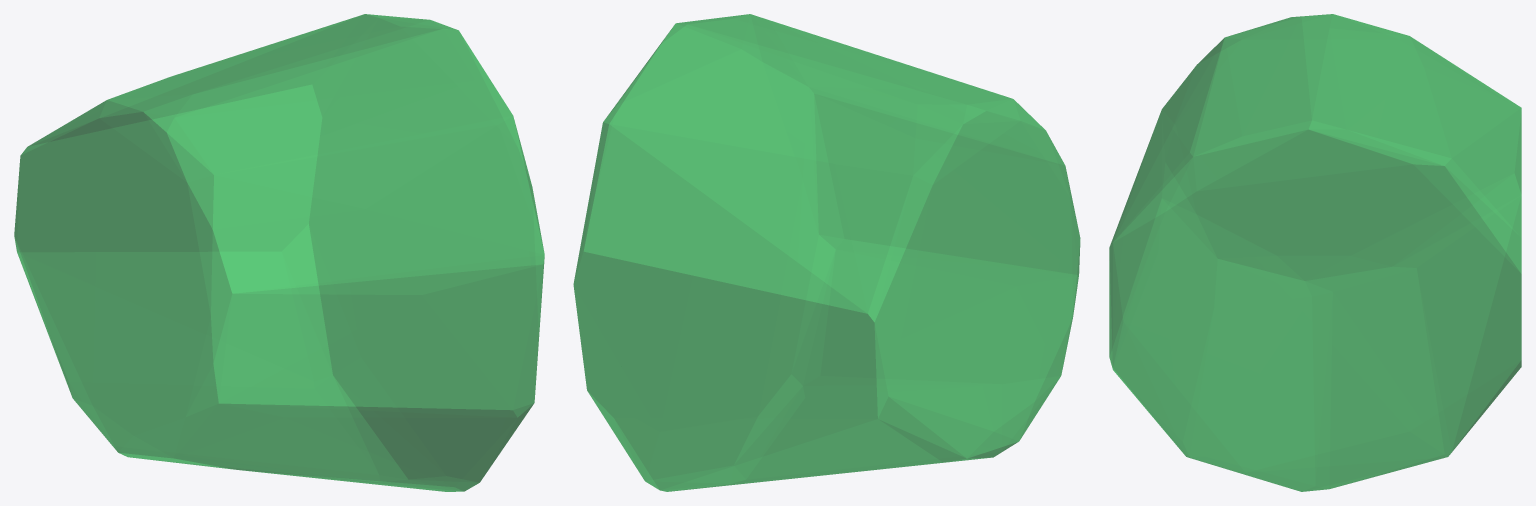
The picture shows the model from 3 angles, left to right: view 1: azimuth 30°, elevation 25°; view 2: azimuth 150°, elevation 25°; view 3: azimuth 270°, elevation 25°; orthographic projection. The views are drawn at different scales.
Visible parts, largest first — view 1: Shape_IndexedFaceSet.001_Shape_IndexedFaceSet.3781; view 2: Shape_IndexedFaceSet.001_Shape_IndexedFaceSet.3781; view 3: Shape_IndexedFaceSet.001_Shape_IndexedFaceSet.3781.
Boxes of the visible parts, x1,y1,x2,y2 form: Shape_IndexedFaceSet.001_Shape_IndexedFaceSet.3781: (14, 14, 544, 491); Shape_IndexedFaceSet.001_Shape_IndexedFaceSet.3781: (573, 14, 1080, 491); Shape_IndexedFaceSet.001_Shape_IndexedFaceSet.3781: (1109, 14, 1521, 491).
Size of the model in its own units: 0.0618 by 0.0758 by 0.0722.
